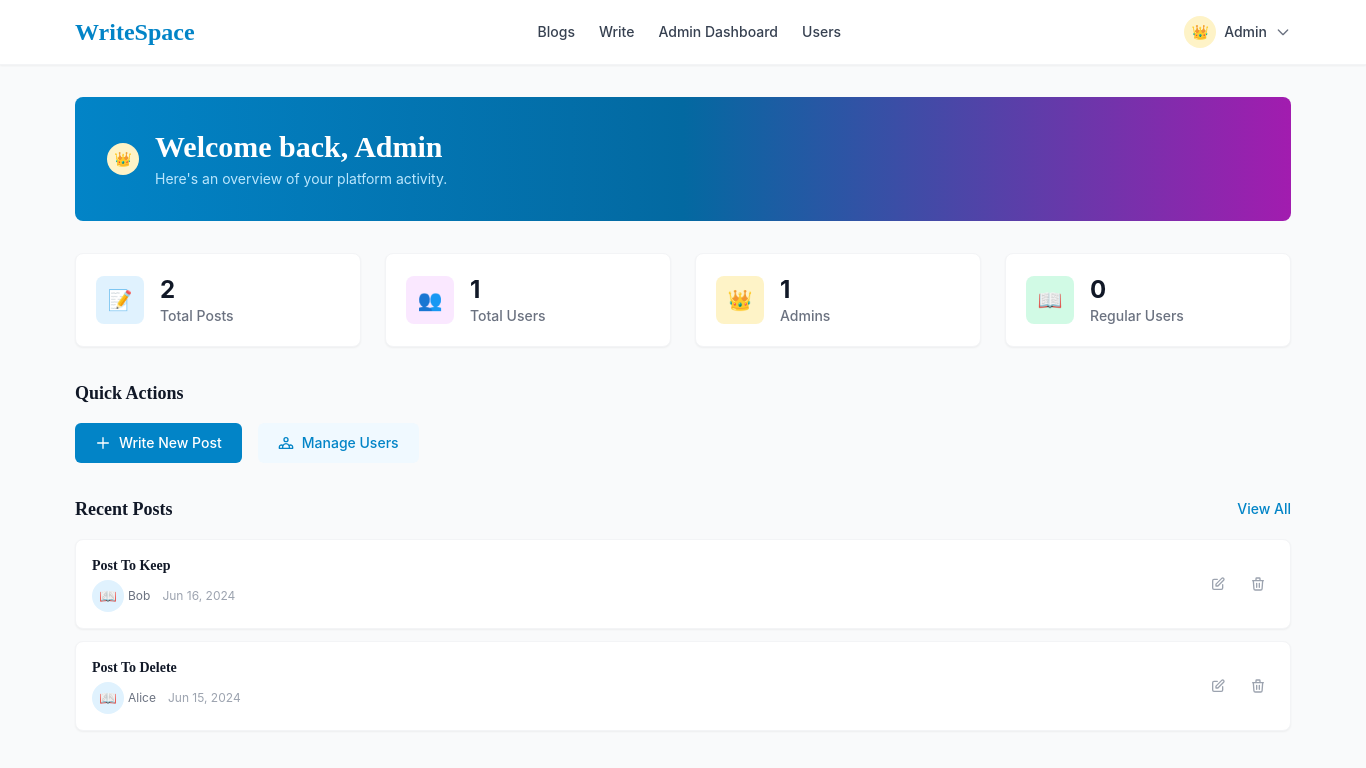
Test: AdminDashboard › delete post functionality › shows delete confirmation modal when delete button is clicked
Click the button titled "Delete post" in the row of "Jun 16, 2024": (1258, 584) x1=1242 y1=568 x2=1274 y2=600
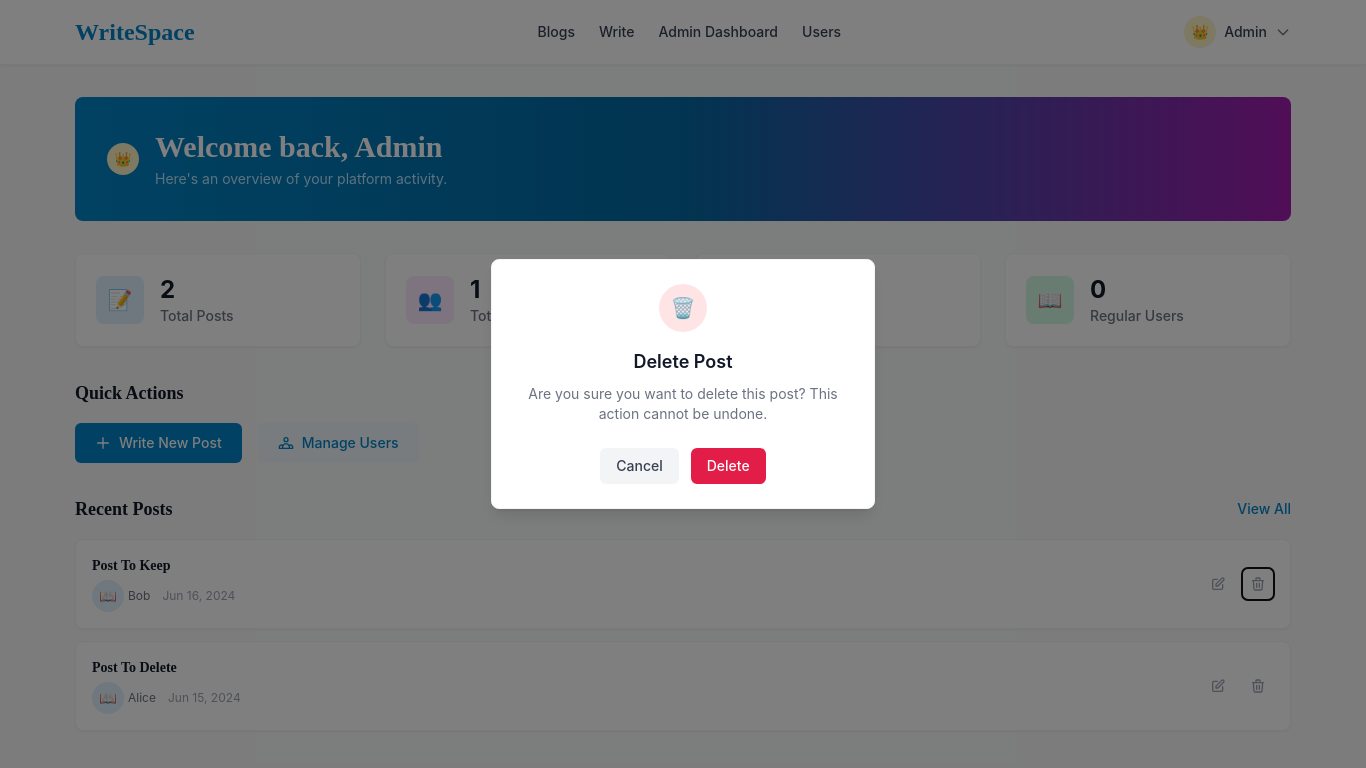
Check: the heading "Delete Post" is shown, box x1=634 y1=351 x2=732 y2=372
Check: the text "Are you sure you want to delete this post" is shown, box x1=528 y1=385 x2=838 y2=422
